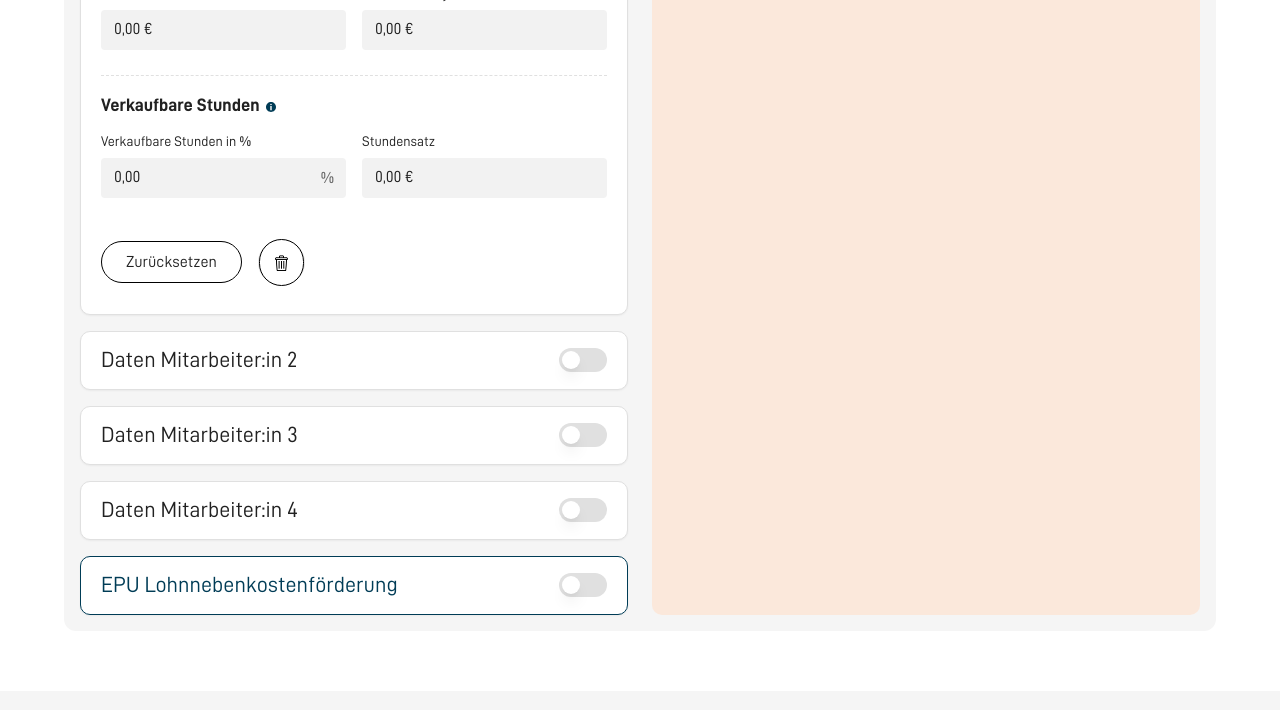
Scenario: Calculator page › keeps only one employee form open at a time
This screenshot has width=1280, height=710.
(page scrolled)
Click the button "Daten Mitarbeiter:in 2" at coordinates (181, 360), box x1=101 y1=344 x2=547 y2=376
(page scrolled)
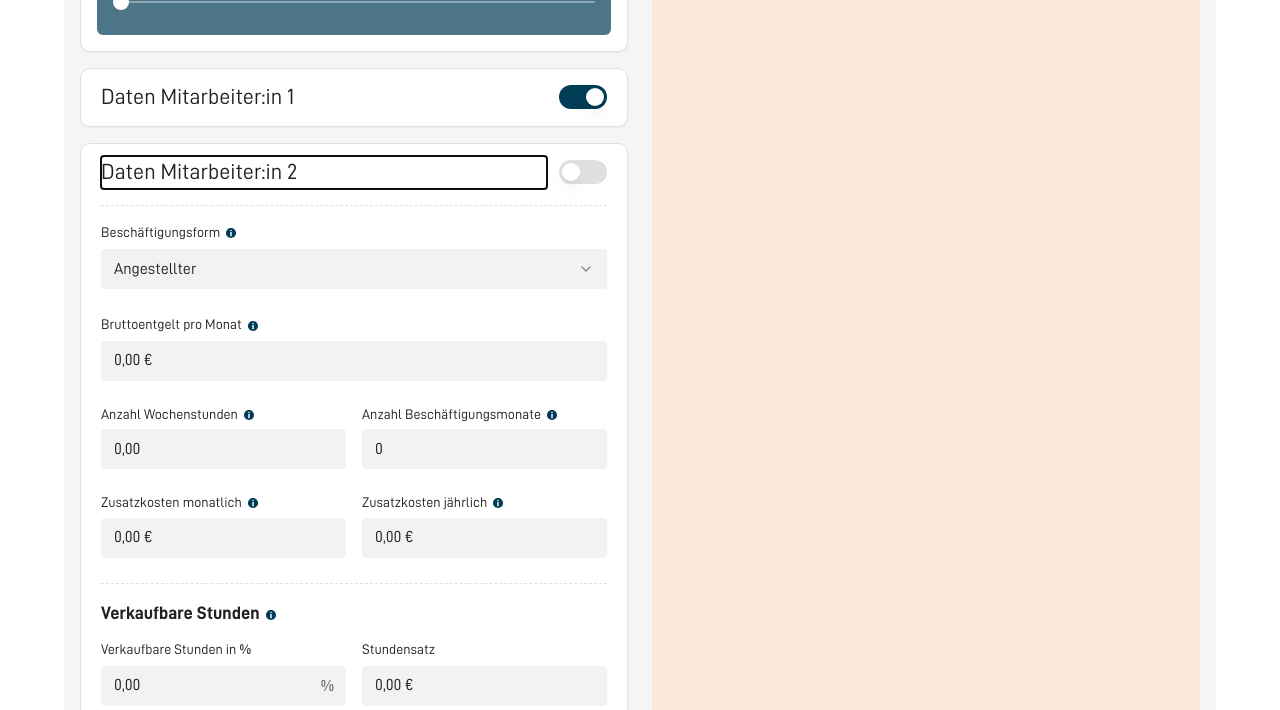
Expected: the field named "Daten Mitarbeiter 2: Bruttoentgelt pro Monat" is shown, x1=101 y1=340 x2=607 y2=380
